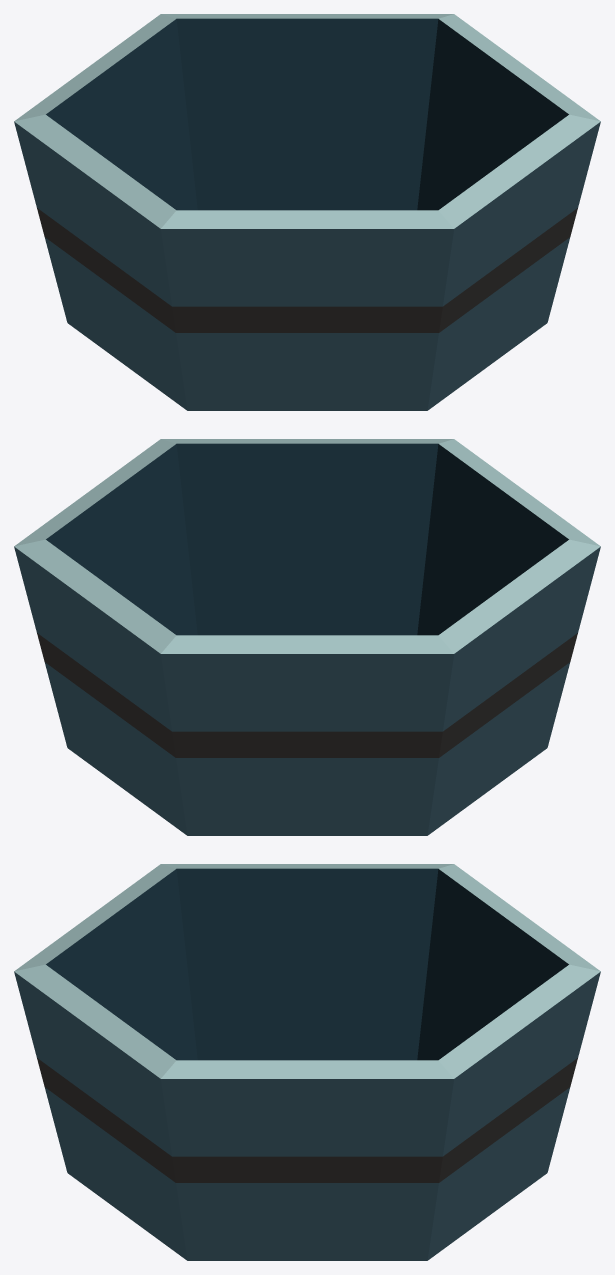
Rendered from TB_Prop_Bucket_E.FBX.
3 renders of one model, top to bottom at view 1: azimuth 30°, elevation 25°; view 2: azimuth 150°, elevation 25°; view 3: azimuth 270°, elevation 25°, orthographic.
Visible parts, largest first — view 1: TB_Prop_Bucket_E; view 2: TB_Prop_Bucket_E; view 3: TB_Prop_Bucket_E.
Boxes of the visible parts, left/top/right/bottom form: TB_Prop_Bucket_E: left=14, top=14, right=600, bottom=410; TB_Prop_Bucket_E: left=14, top=439, right=600, bottom=835; TB_Prop_Bucket_E: left=14, top=864, right=600, bottom=1260.
Size of the model in its own units: 0.9353 by 0.4233 by 1.08.
